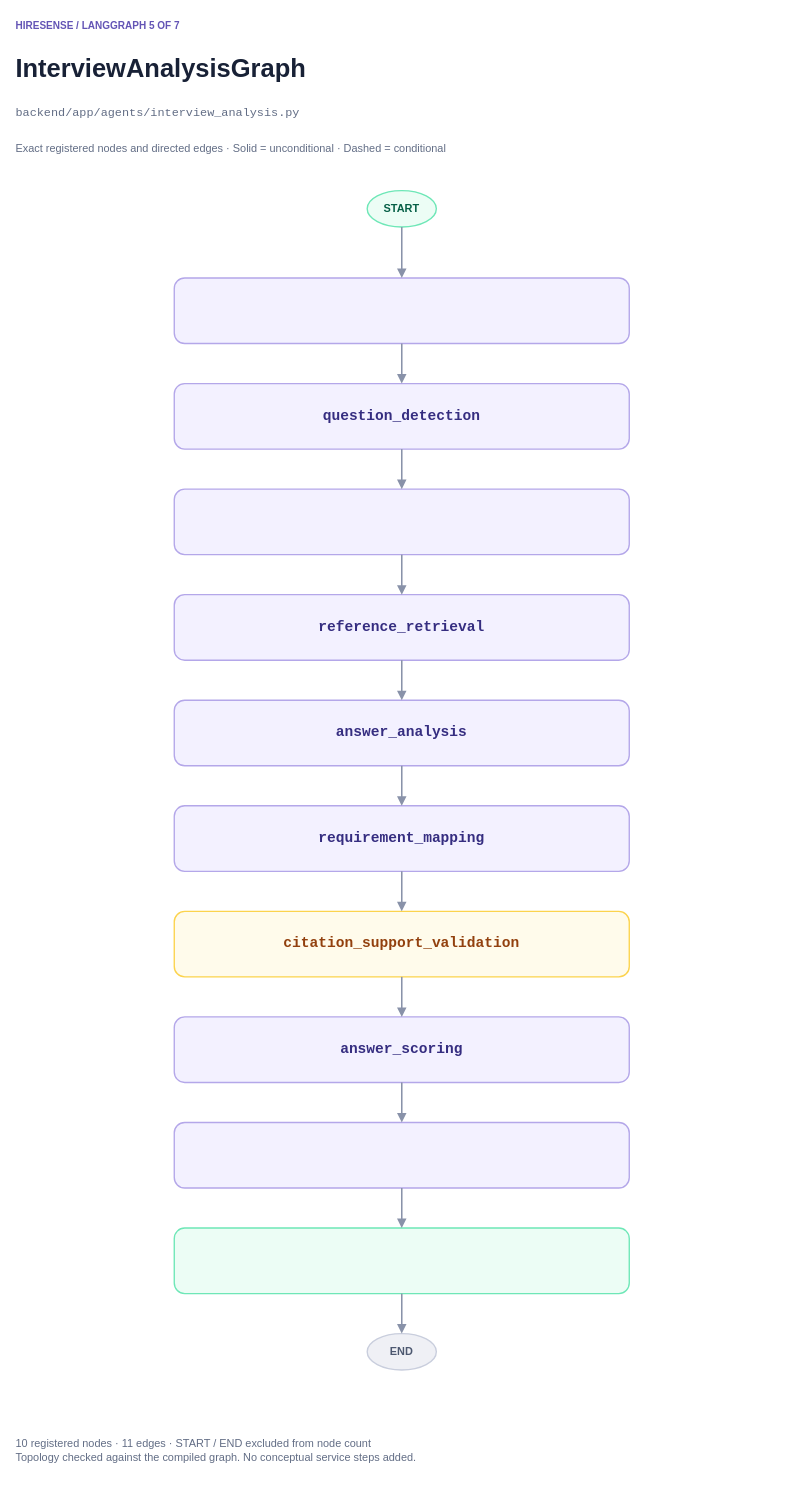
Image size: 803x1491. Some labels were removed from this diagram. The shapes that lost their labels are listed below. From the top down, each one's centre as x and y in pixels, then its label:
pixel 401 310: final_transcript_selection
pixel 401 521: answer_pairing
pixel 401 1154: follow_up_generation
pixel 401 1260: persistence
